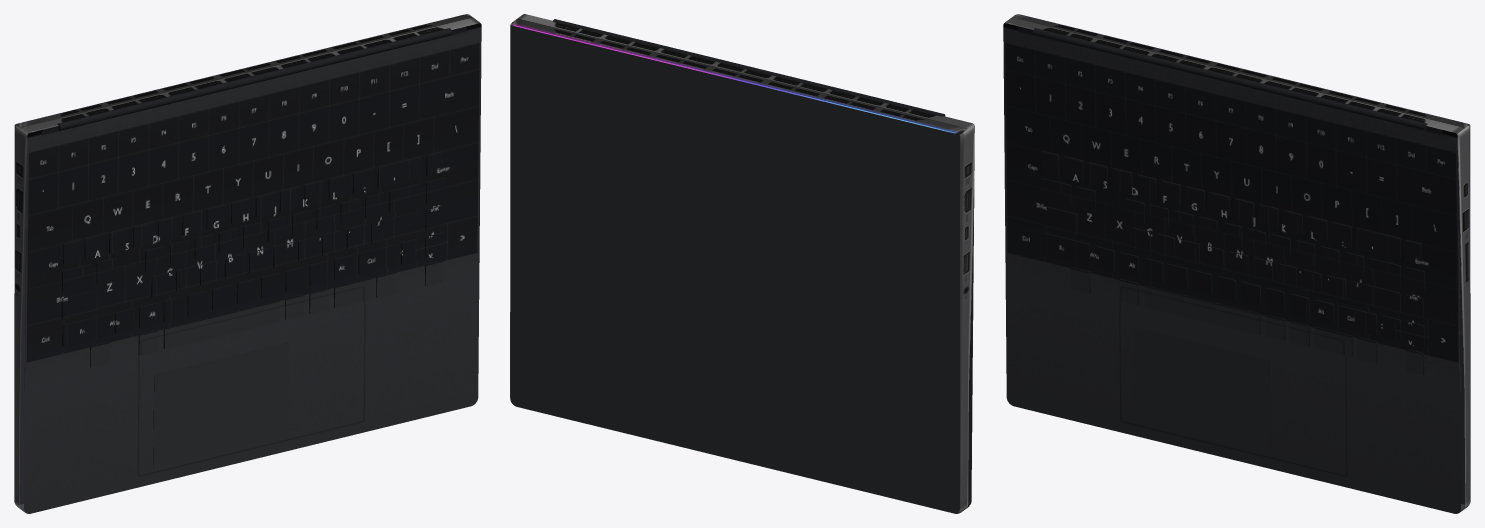
Rendered from body.obj.
3 views of the same model, side by side, from view 1: azimuth 30°, elevation 25°; view 2: azimuth 150°, elevation 25°; view 3: azimuth 330°, elevation 25° (orthographic).
Parts seen in each view (by area): view 1: deck, keys.001, base.002, keys, base.003, hinge, base.004; view 2: base.004, base.002, base.003, hinge, deck; view 3: deck, keys.001, base.002, keys, base.001, hinge, base.004.
Boxes of the visible parts, <box> form: deck: <box>24,23,481,513</box>; keys.001: <box>62,152,445,367</box>; base.002: <box>18,14,480,133</box>; keys: <box>61,151,445,367</box>; base.003: <box>14,125,27,509</box>; hinge: <box>57,28,451,130</box>; base.004: <box>15,123,26,504</box>; base.004: <box>510,25,959,513</box>; base.002: <box>512,14,973,133</box>; base.003: <box>958,124,974,512</box>; hinge: <box>552,19,945,116</box>; deck: <box>954,131,974,506</box>; deck: <box>1003,23,1460,513</box>; keys.001: <box>1041,151,1424,374</box>; base.002: <box>1004,14,1468,133</box>; keys: <box>1041,150,1425,374</box>; base.001: <box>1457,125,1470,509</box>; hinge: <box>1033,28,1427,130</box>; base.004: <box>1458,124,1469,504</box>.
Size of the model in its own units: 357 by 290 by 21.35.
